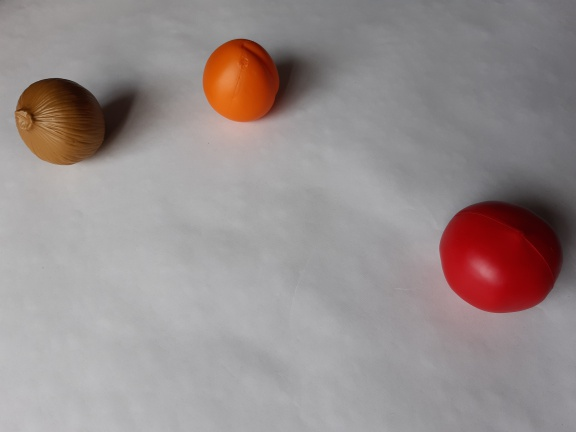apricot: (197, 34, 283, 127)
onion: (4, 71, 121, 177)
tomato: (433, 192, 569, 323)
